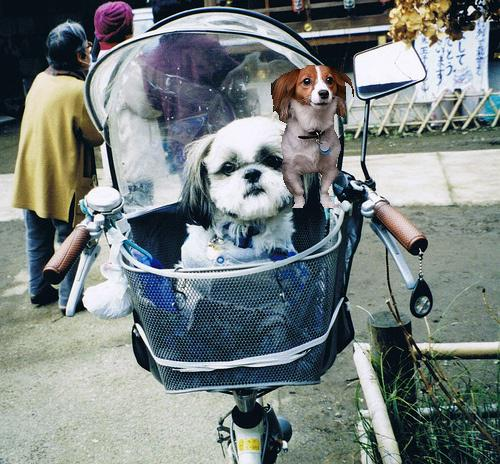tampered: (272, 66, 354, 208)
